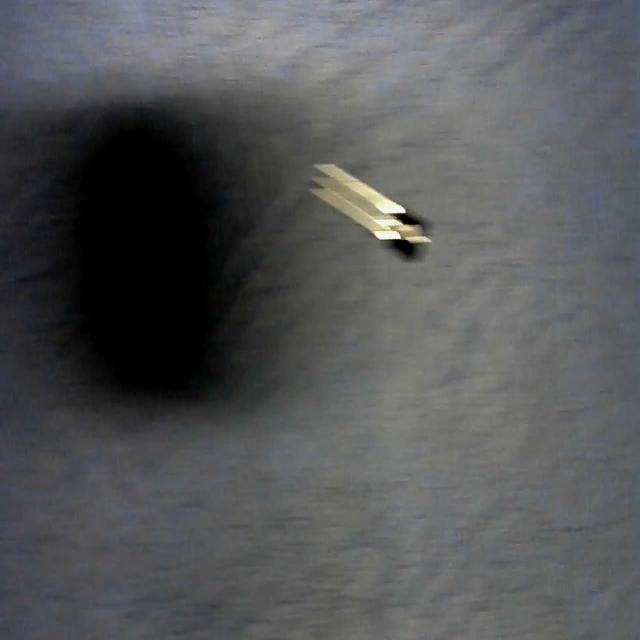BJT: (306, 159, 432, 263)
